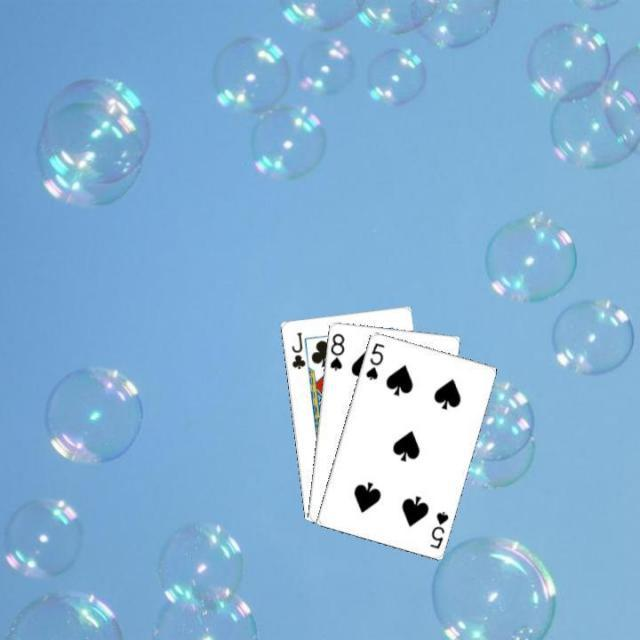5S: (426, 507, 450, 551), (362, 339, 386, 381)
8S: (325, 329, 345, 373)
JC: (287, 328, 307, 370)
